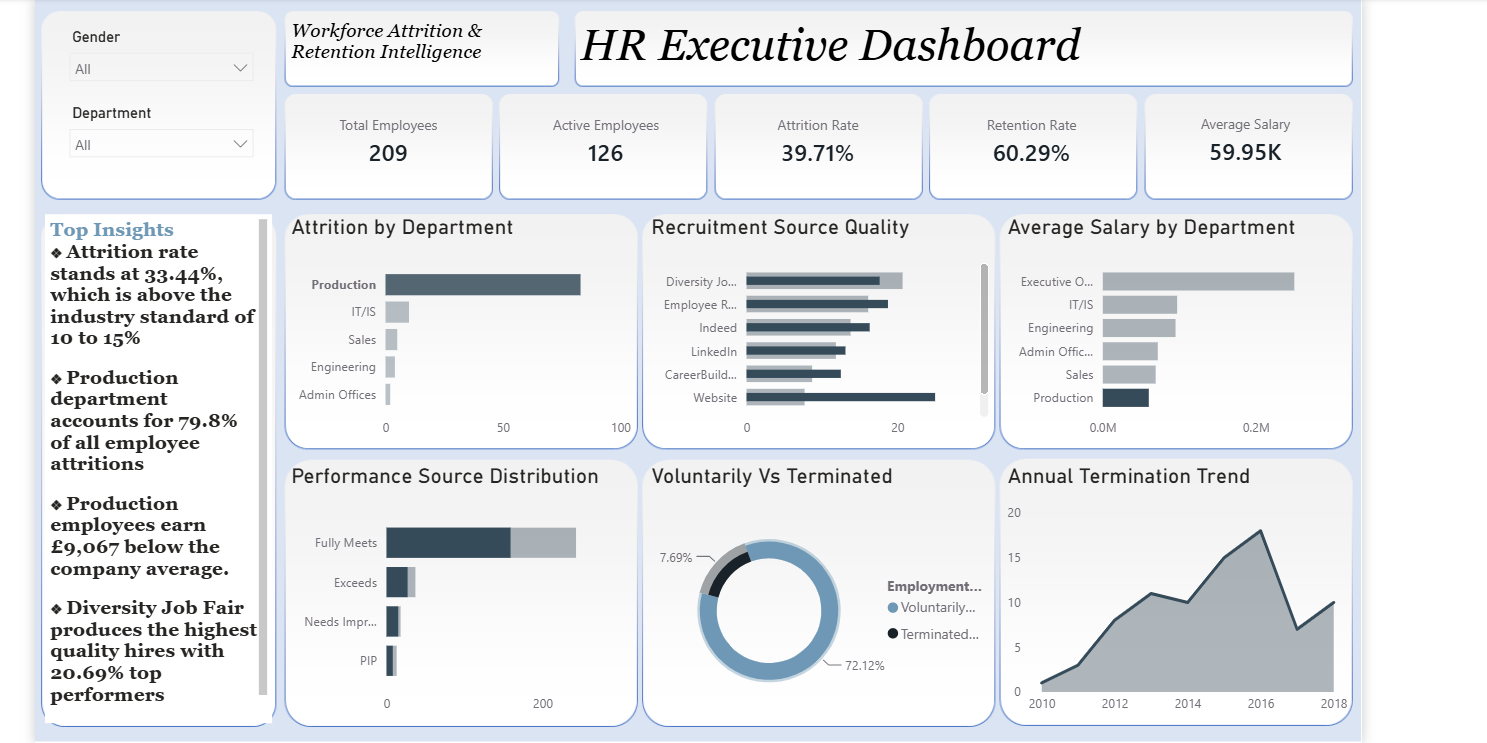

The page's visual inventory and layout, read from the dashboard file:
{"tool":"powerbi","page":{"name":"Page 1","canvas":[1280,720],"ordinal":0},"visuals":[{"type":"cardVisual","fields":{"Data":["cleaned_SQL.Attrition Rate"]},"box":[652.7,90.5,206.3,95.3],"z":0},{"type":"cardVisual","fields":{"Data":["cleaned_SQL.Retention Rate"]},"box":[859,90.5,206.3,95.3],"z":1000},{"type":"cardVisual","fields":{"Data":["cleaned_SQL.Average Salary"]},"box":[1065.3,89.3,206.3,95.3],"z":2000},{"type":"cardVisual","fields":{"Data":["cleaned_SQL.Total Employees"]},"box":[242.5,90.5,197.9,95.3],"z":3000},{"type":"cardVisual","fields":{"Data":["cleaned_SQL.Active Employees"]},"box":[450,90.5,202.7,95.3],"z":4000},{"type":"textbox","box":[521.2,15.7,750.4,65.1],"z":5000},{"type":"barChart","title":"Attrition by Department","fields":{"Y":["cleaned_SQL.Total Attrition"],"Category":["cleaned_SQL.Department"]},"box":[242.5,208.7,337.8,224.4],"z":6000},{"type":"barChart","title":"Recruitment Source Quality","fields":{"Category":["cleaned_SQL.Recruitment_Source"],"Y":["cleaned_SQL.Attrition Rate"]},"box":[589.9,208.7,335.4,224.4],"z":7000},{"type":"barChart","fields":{"Category":["cleaned_SQL.Department"],"Y":["cleaned_SQL.Average Salary"]},"box":[933.8,208.7,337.8,224.4],"z":8000},{"type":"barChart","title":"Performance Source Distribution","fields":{"Category":["cleaned_SQL.Performance_Score"],"Y":["CountNonNull(cleaned_SQL.Employee_ID)"]},"box":[242.5,448.8,337.8,250.9],"z":9000},{"type":"donutChart","title":"Voluntarily Vs Terminated ","fields":{"Category":["cleaned_SQL.Employment_Status"],"Y":["CountNonNull(cleaned_SQL.Employee_ID)"]},"box":[589.9,448.8,335.4,250.9],"z":10000},{"type":"slicer","fields":{"Values":["cleaned_SQL.Gender"]},"box":[22.9,24.1,197.9,66.4],"z":11000},{"type":"areaChart","title":"Annual Termination Trend","fields":{"Category":["cleaned_SQL.Termination Year"],"Y":["CountNonNull(cleaned_SQL.Employee_ID)"]},"box":[933.8,448.8,337.8,250.9],"z":12000},{"type":"textbox","box":[242.5,15.7,265.4,65.1],"z":13000},{"type":"textbox","box":[9.7,208.7,219.6,416.2],"z":14000},{"type":"slicer","fields":{"Values":["cleaned_SQL.Department"]},"box":[22.9,97.7,197.9,82],"z":15000}]}

Visuals, with their boxes on the page's 1280x720 design canvas (x1, y1, x2, y2). These are canvas units, not pixel positions in the 1487x743 screenshot, which may show the page scaled, cropped or inside an application window:
cardVisual - cleaned_SQL.Attrition Rate: x1=653, y1=90, x2=859, y2=186
cardVisual - cleaned_SQL.Retention Rate: x1=859, y1=90, x2=1065, y2=186
cardVisual - cleaned_SQL.Average Salary: x1=1065, y1=89, x2=1272, y2=185
cardVisual - cleaned_SQL.Total Employees: x1=242, y1=90, x2=440, y2=186
cardVisual - cleaned_SQL.Active Employees: x1=450, y1=90, x2=653, y2=186
textbox: x1=521, y1=16, x2=1272, y2=81
"Attrition by Department" barChart: x1=242, y1=209, x2=580, y2=433
"Recruitment Source Quality" barChart: x1=590, y1=209, x2=925, y2=433
barChart - cleaned_SQL.Department x cleaned_SQL.Average Salary: x1=934, y1=209, x2=1272, y2=433
"Performance Source Distribution" barChart: x1=242, y1=449, x2=580, y2=700
"Voluntarily Vs Terminated " donutChart: x1=590, y1=449, x2=925, y2=700
slicer - cleaned_SQL.Gender: x1=23, y1=24, x2=221, y2=90
"Annual Termination Trend" areaChart: x1=934, y1=449, x2=1272, y2=700
textbox: x1=242, y1=16, x2=508, y2=81
textbox: x1=10, y1=209, x2=229, y2=625
slicer - cleaned_SQL.Department: x1=23, y1=98, x2=221, y2=180
